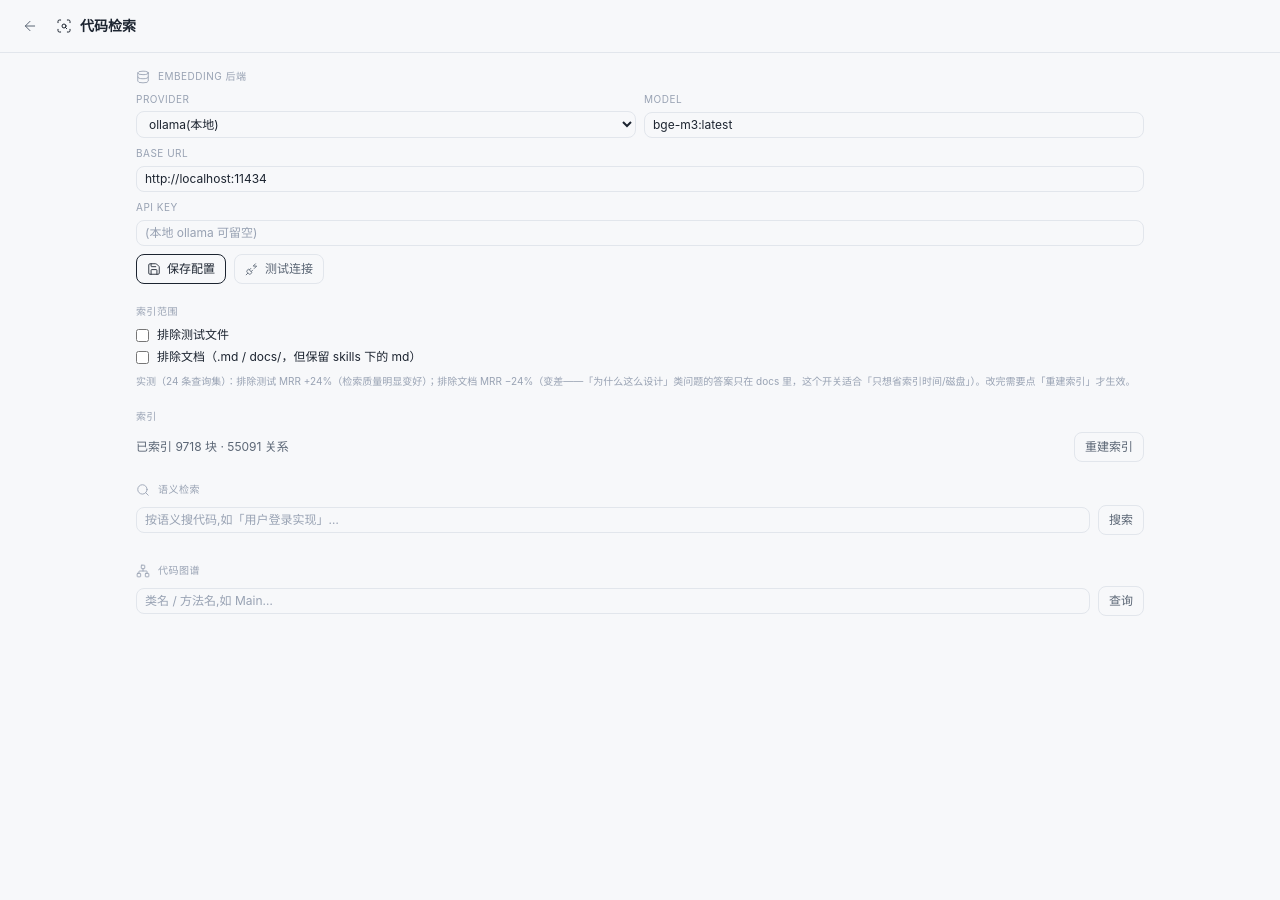
Scenario: RagPanel 索引进度 › **重建期间不把上一份索引的统计当成当前进度** —— 要显式标出「上一份」
Click the button "重建索引" at coordinates (1109, 447), box [1074, 432, 1144, 462]
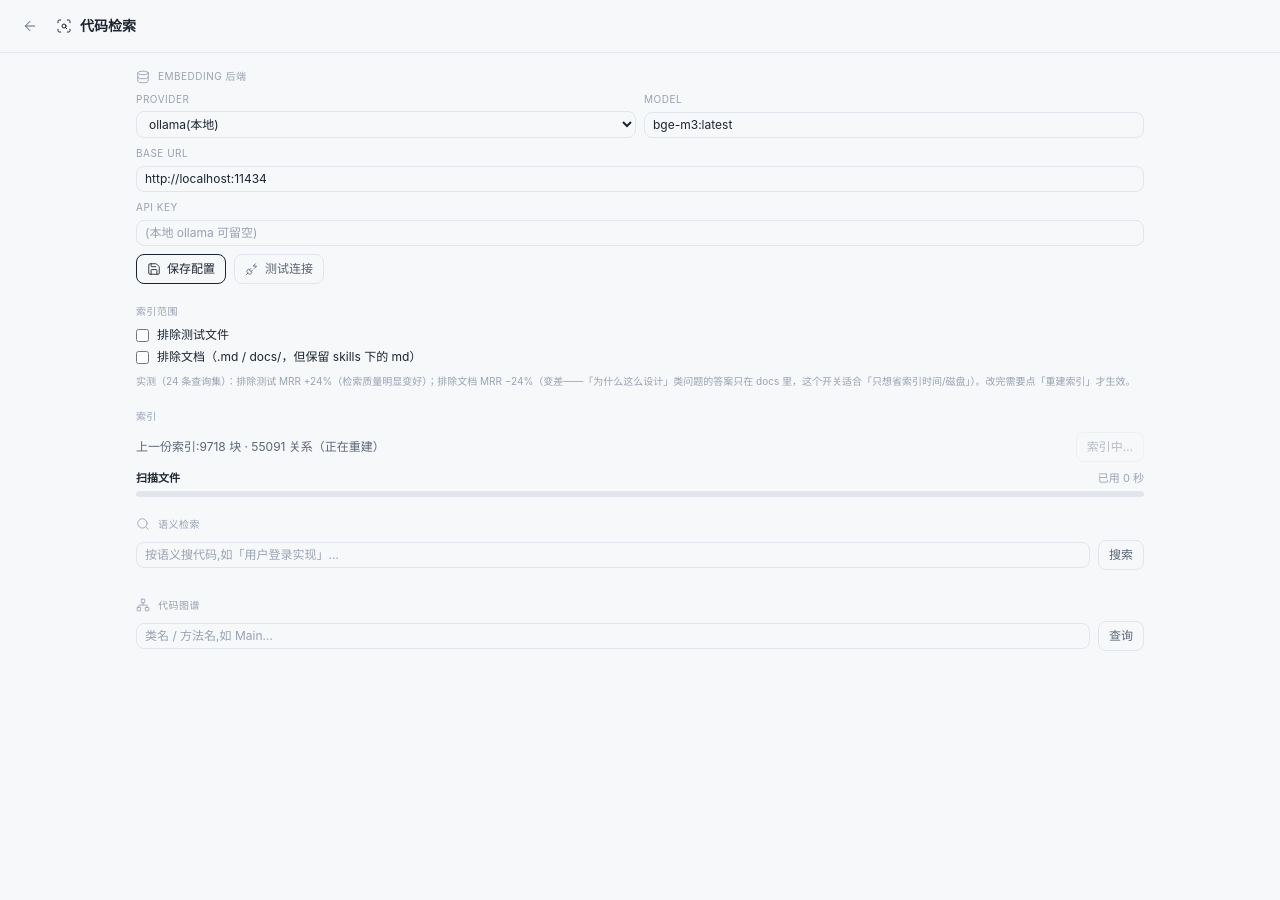
Result: the element with test id "rag-index-progress" is shown at [136, 470, 1144, 497]
Result: the text "上一份索引:9718 块 · 55091 关系（正在重建）" is shown at [136, 439, 385, 455]
Result: the text "已索引 9718 块" is gone
